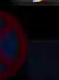No Stopping: (0, 8, 27, 79)
